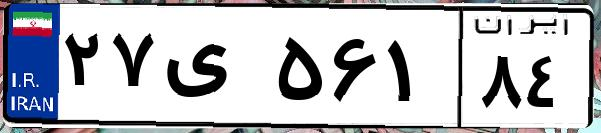1: (385, 28, 445, 110)
2: (57, 26, 110, 100)
4: (525, 38, 570, 115)
5: (270, 28, 330, 110)
6: (330, 28, 385, 110)
7: (110, 28, 158, 98)
8: (475, 38, 525, 113)
ی: (158, 20, 270, 120)
